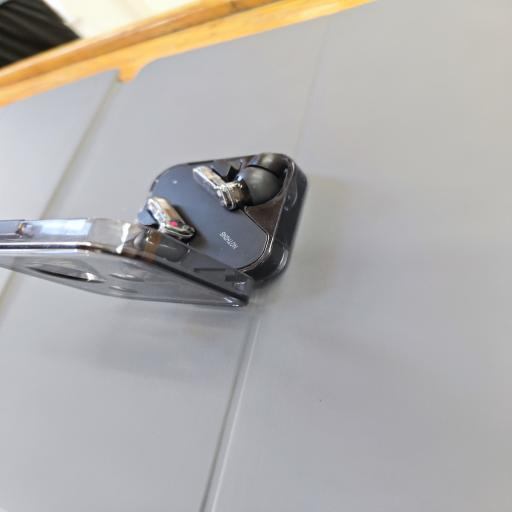Headphones: (0, 150, 312, 314)
